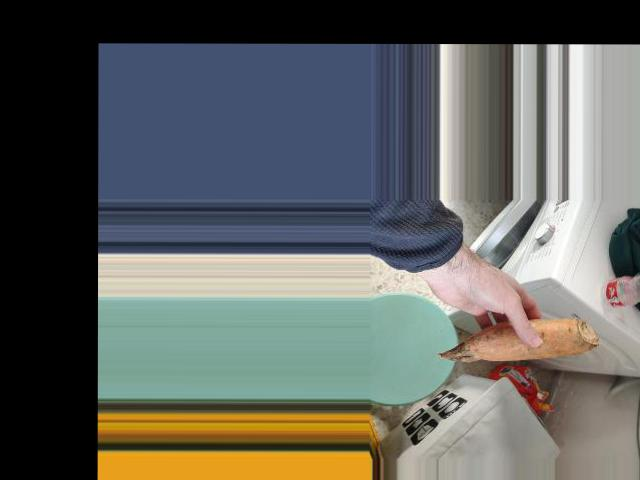sweet_potato: (441, 316, 592, 374)
